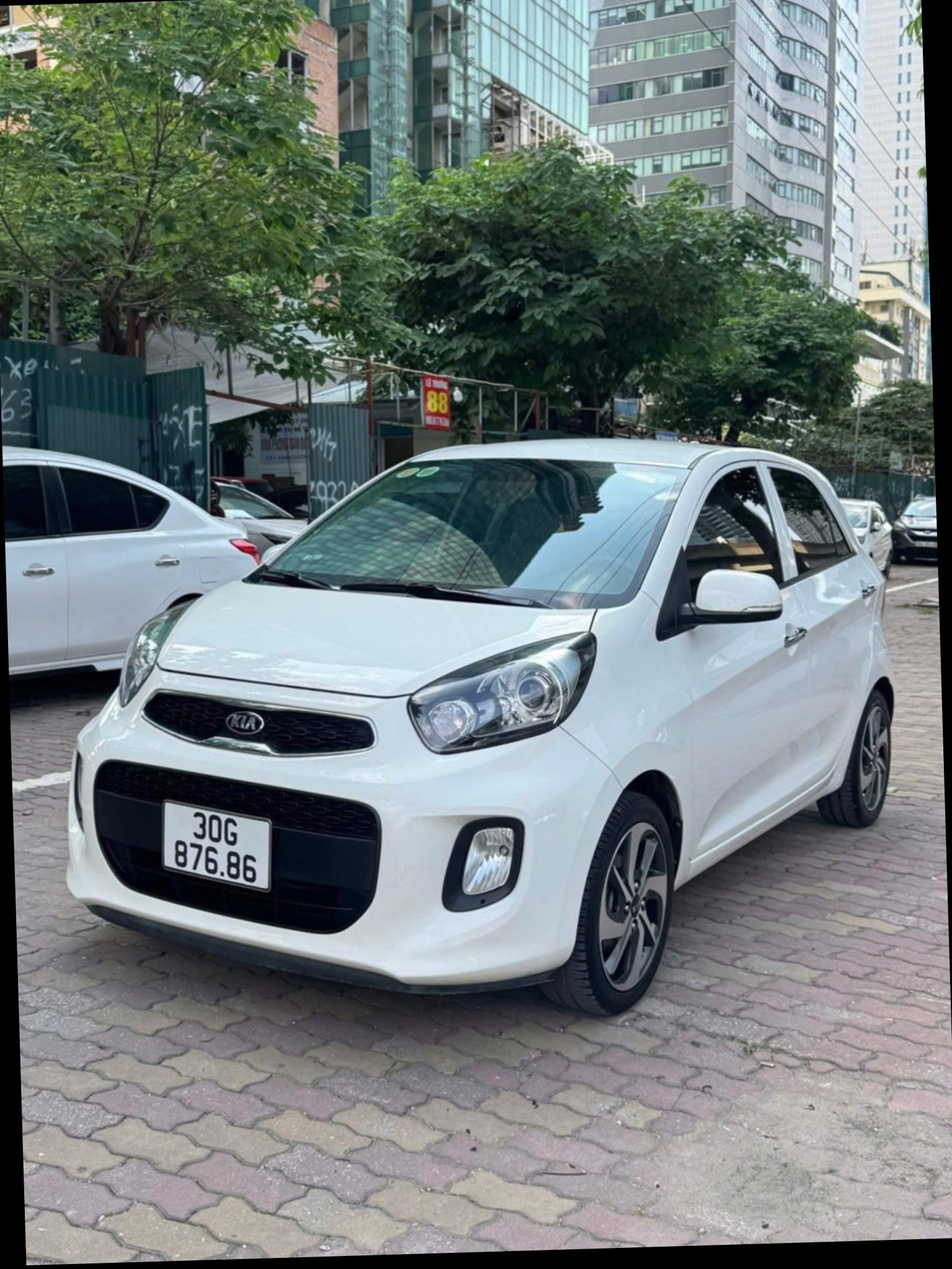Bien-so: (111, 772, 228, 869)
